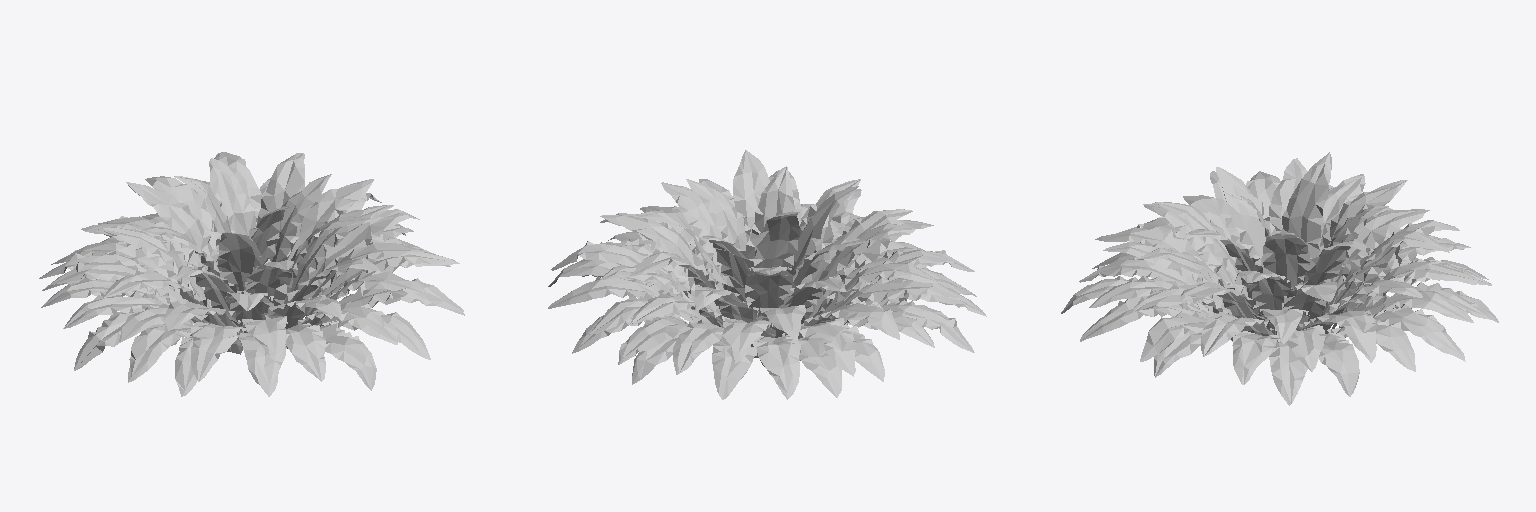
The model's file is matteucia_struthiopteris_loPoly.obj.
The picture shows the model from 3 angles: view 1: azimuth 30°, elevation 25°; view 2: azimuth 150°, elevation 25°; view 3: azimuth 270°, elevation 25°; orthographic projection.
Visible parts, largest first — view 1: Matteuccia_struthiopteris__A001.001; view 2: Matteuccia_struthiopteris__A001.001; view 3: Matteuccia_struthiopteris__A001.001.
Boxes of the visible parts, x1=… form: Matteuccia_struthiopteris__A001.001: x1=39, y1=152, x2=464, y2=396; Matteuccia_struthiopteris__A001.001: x1=548, y1=150, x2=986, y2=399; Matteuccia_struthiopteris__A001.001: x1=1061, y1=152, x2=1498, y2=405.
Bounding box in the file's own units: 22.04 × 8.17 × 21.55.